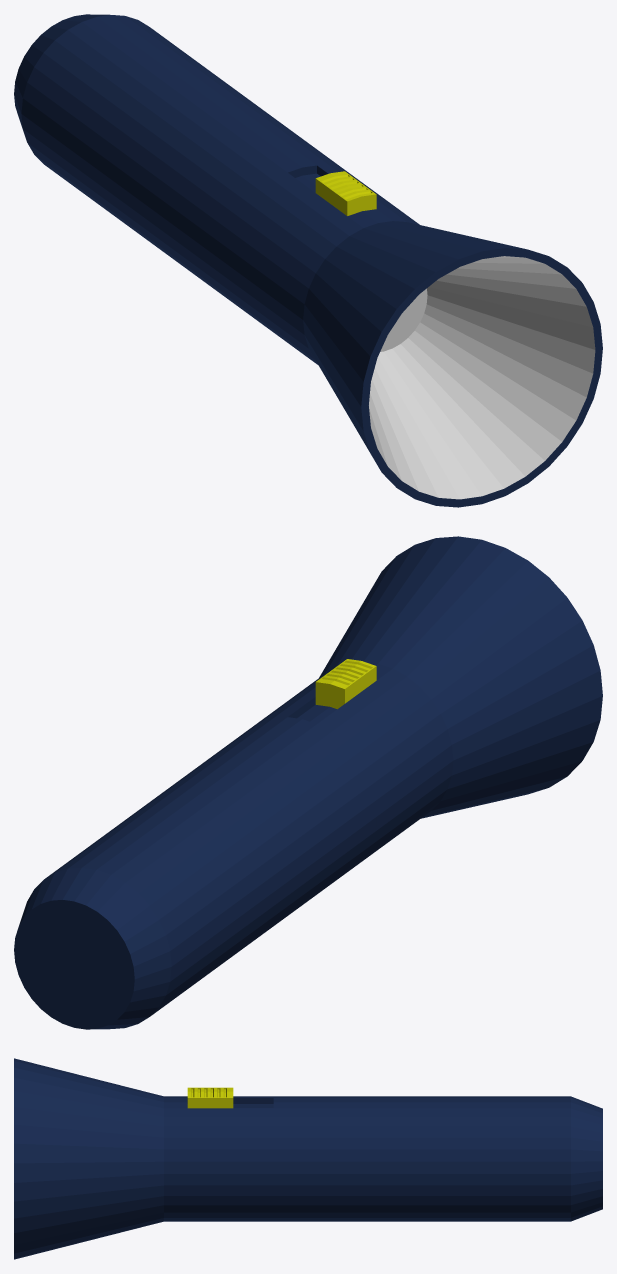
File: FlashLight.fbx
3 renders of one model, top to bottom at view 1: azimuth 30°, elevation 25°; view 2: azimuth 150°, elevation 25°; view 3: azimuth 270°, elevation 25°, orthographic. The views are drawn at different scales.
Visible parts, largest first — view 1: Cylinder; view 2: Cylinder; view 3: Cylinder.
Part boxes in pixels (bbox=[...]): Cylinder: bbox=[14, 14, 602, 507]; Cylinder: bbox=[14, 536, 602, 1029]; Cylinder: bbox=[14, 1058, 602, 1259].
Size of the model in its own units: 0.5181 by 0.5181 by 1.51.
